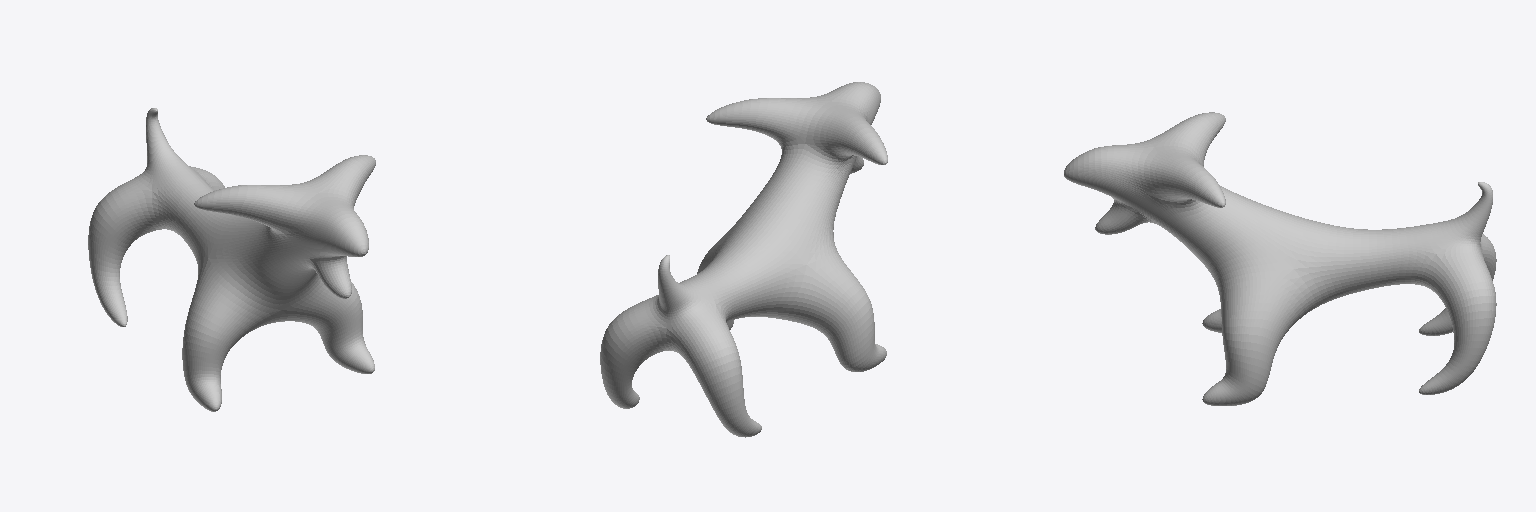
The model's file is dog.obj.
The picture shows the model from 3 angles: view 1: azimuth 30°, elevation 25°; view 2: azimuth 150°, elevation 25°; view 3: azimuth 270°, elevation 25°; orthographic projection.
Size of the model in its own units: 0.1286 by 0.1537 by 0.2671.